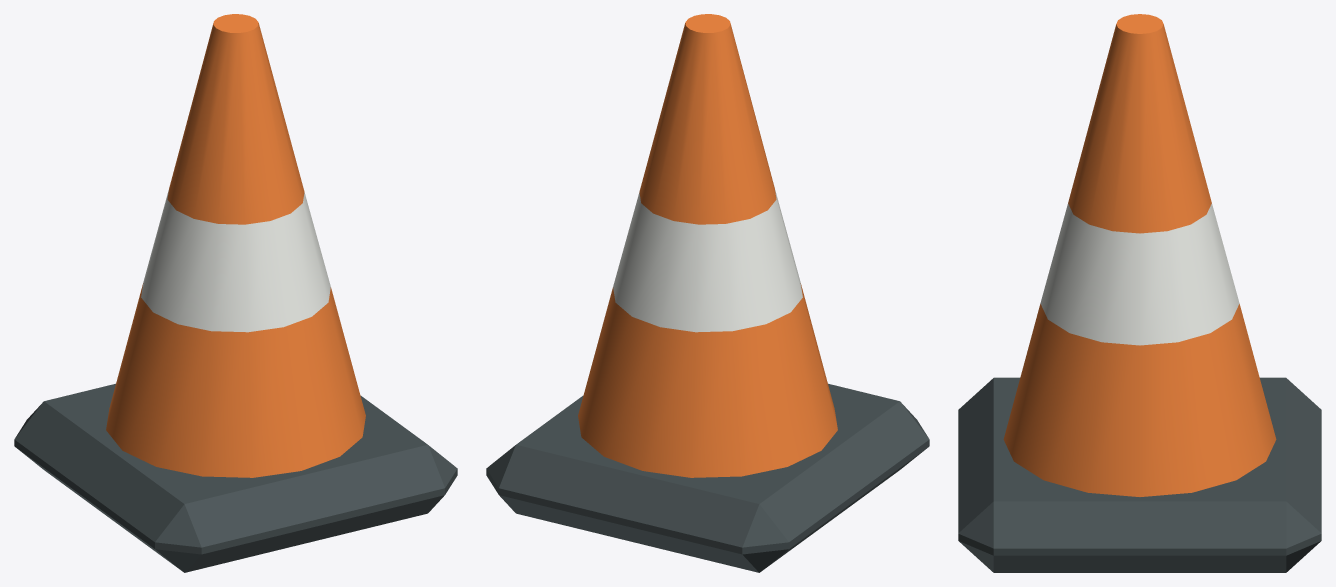
3 views of the same model, side by side, from view 1: azimuth 30°, elevation 25°; view 2: azimuth 150°, elevation 25°; view 3: azimuth 270°, elevation 25° (orthographic). The views are drawn at different scales.
Visible parts, largest first — view 1: Static_Safety orange, Static_Weighted base, Static_Reflective band; view 2: Static_Safety orange, Static_Weighted base, Static_Reflective band; view 3: Static_Safety orange, Static_Weighted base, Static_Reflective band.
Part boxes in pixels (left/top/right/bottom): Static_Safety orange: left=106, top=14, right=365, bottom=477; Static_Weighted base: left=14, top=383, right=457, bottom=572; Static_Reflective band: left=141, top=190, right=330, bottom=332; Static_Safety orange: left=578, top=14, right=837, bottom=477; Static_Weighted base: left=486, top=383, right=929, bottom=572; Static_Reflective band: left=613, top=190, right=802, bottom=332; Static_Safety orange: left=1003, top=14, right=1276, bottom=496; Static_Weighted base: left=958, top=377, right=1321, bottom=572; Static_Reflective band: left=1040, top=203, right=1239, bottom=345.
Size of the model in its own units: 0.46 by 0.68 by 0.46.
